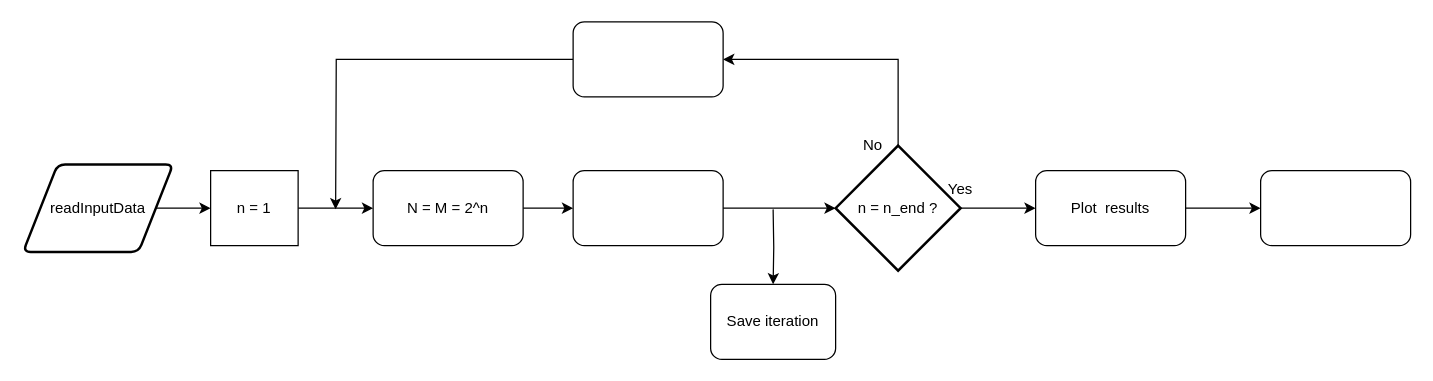
Image size: 1433x381. Some labels were removed from this diagram. Here are the shapes that lost their labels. From the top down, the centre of each, then its label:
At (x=647, y=59): "n = n+1".
At (x=647, y=207): "Solve system".
At (x=1335, y=207): "End".
